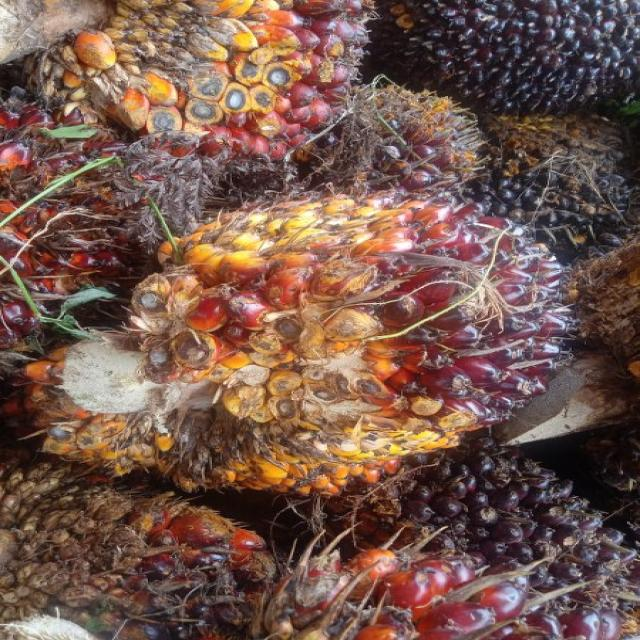fraksi 3: (127, 191, 570, 486)
